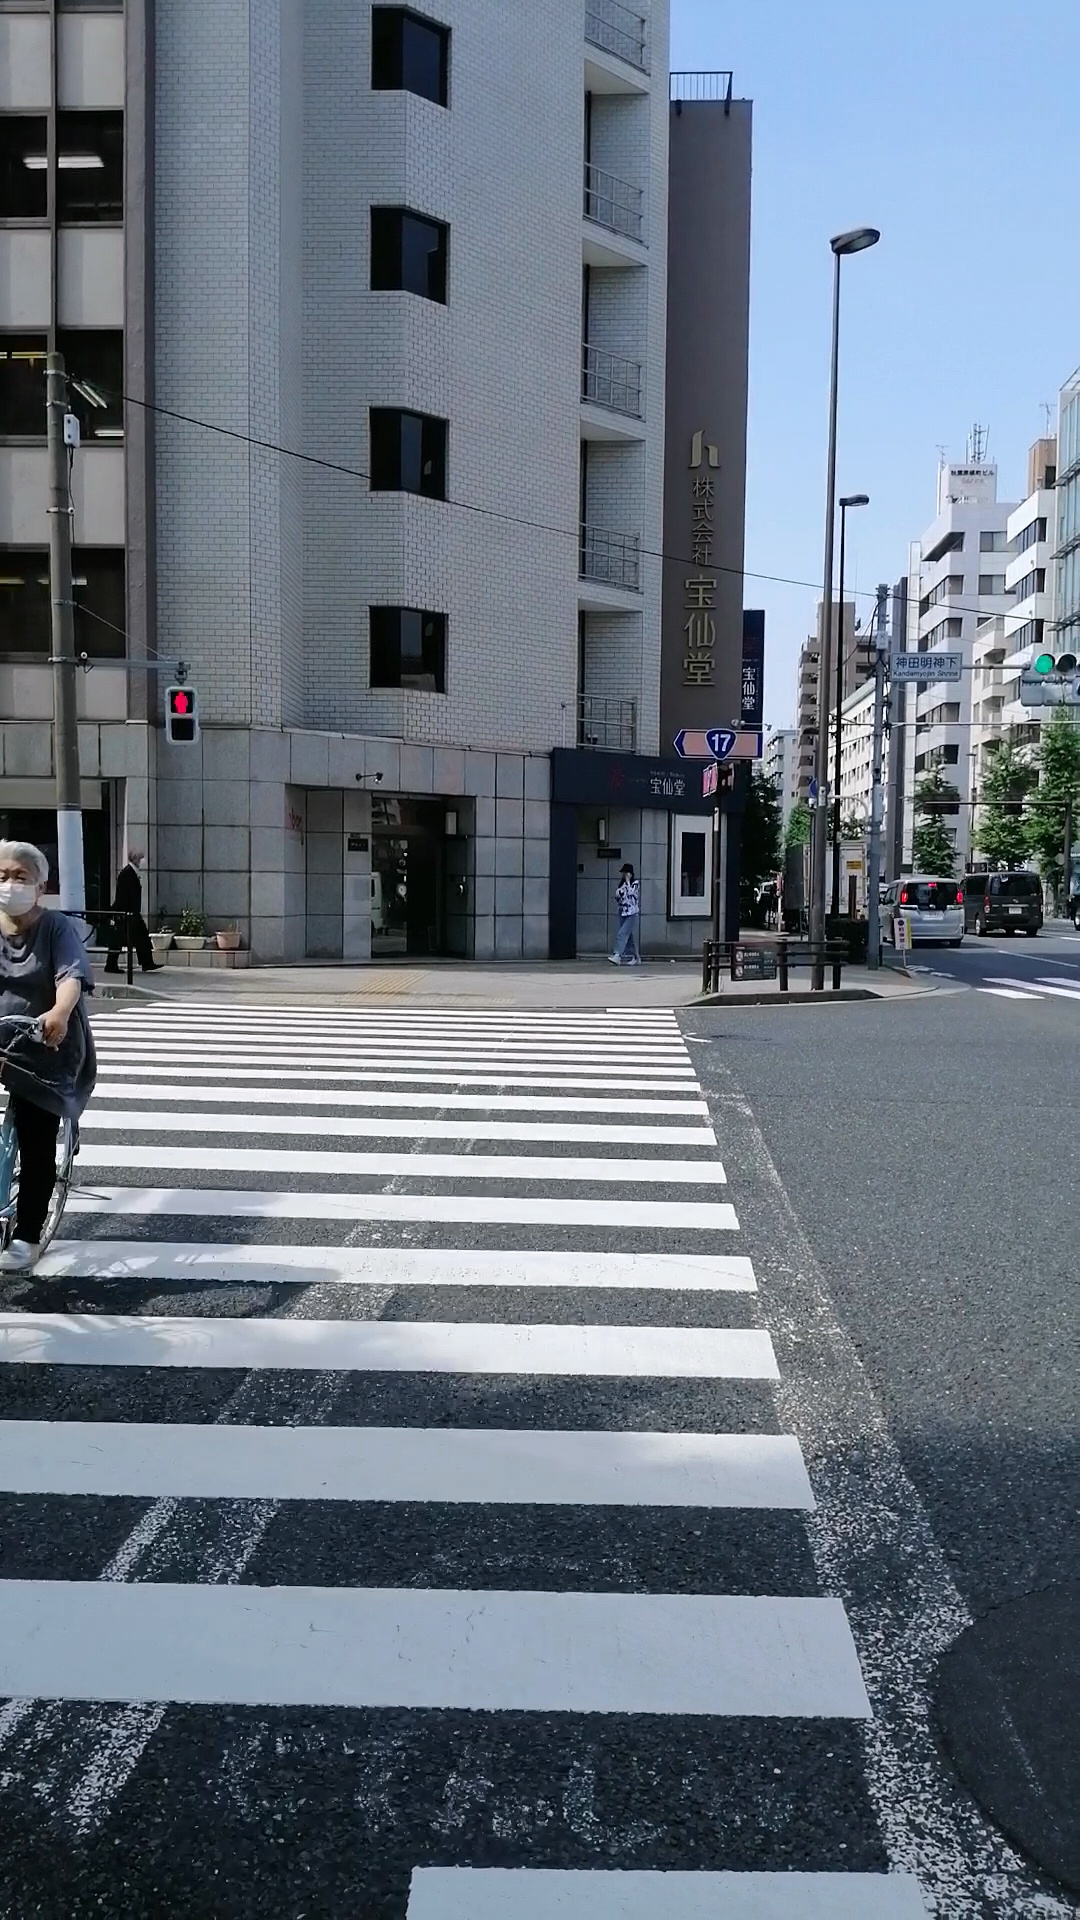red: (164, 683, 200, 746)
